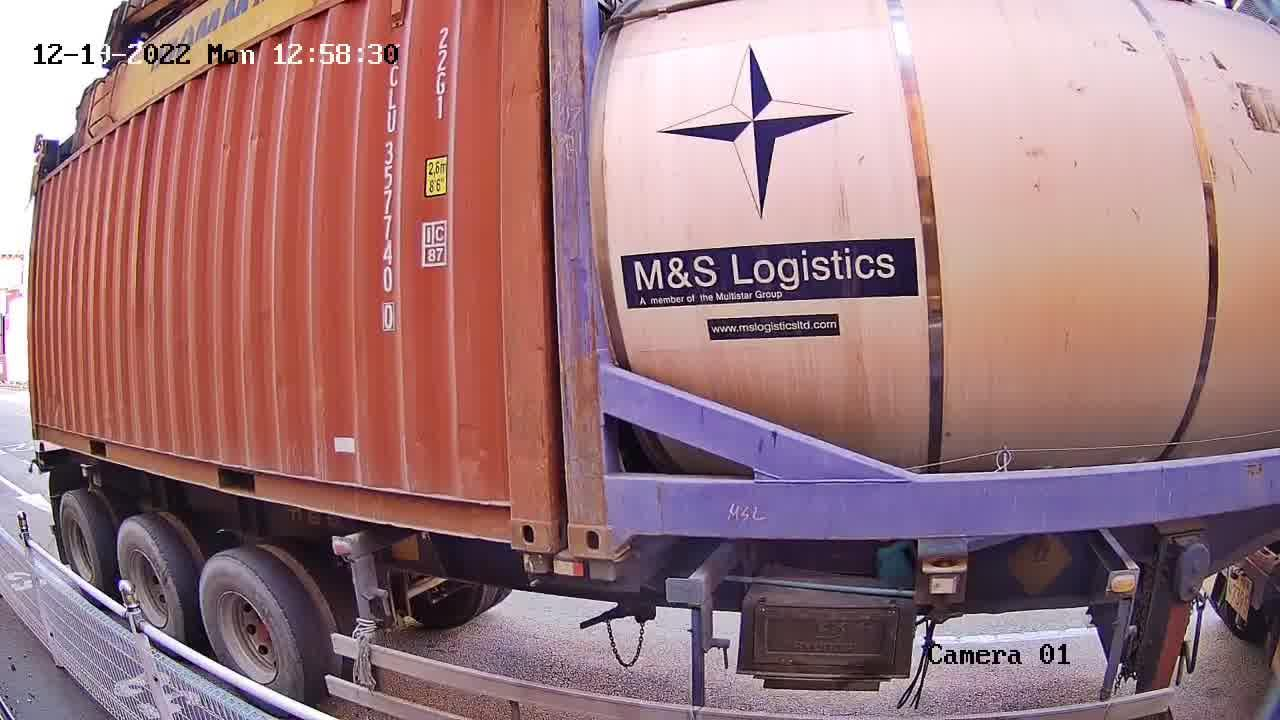Cone: (521, 551, 549, 586), (587, 560, 617, 582)
Hole_L: (565, 485, 644, 559)
Hole_R: (483, 483, 551, 555)
Tire: (202, 559, 301, 695), (118, 523, 182, 636), (60, 498, 102, 582)
